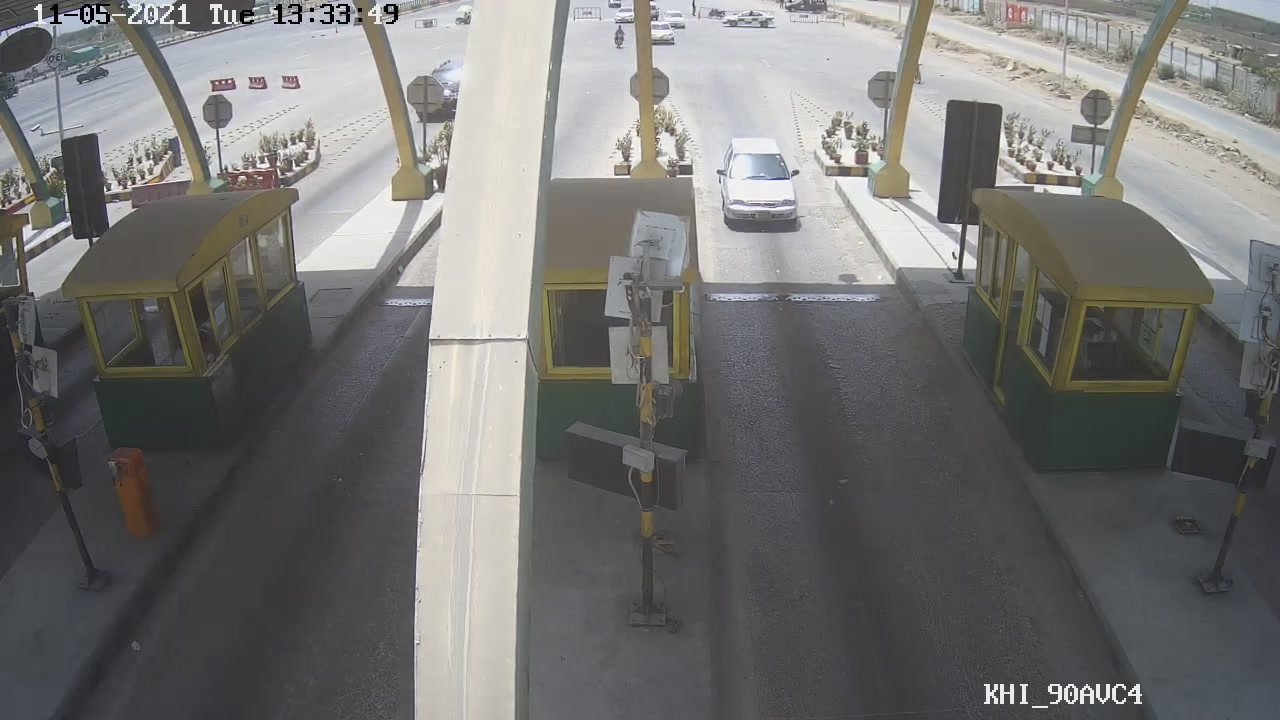F1: (709, 127, 805, 237)
